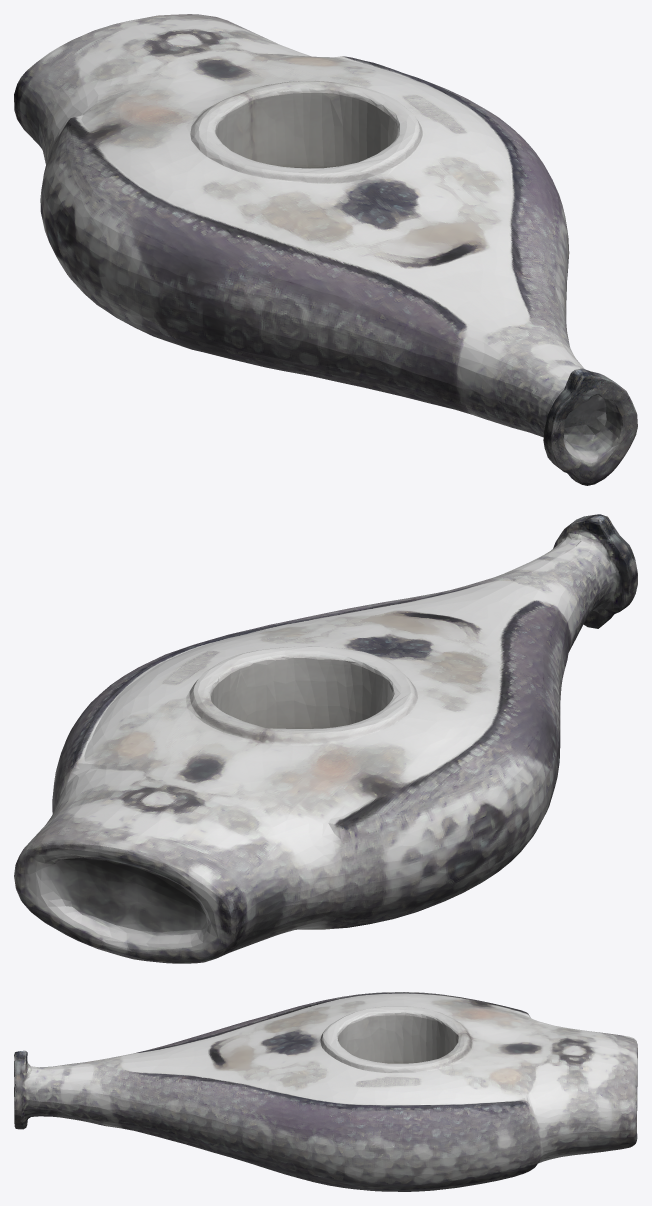
File: z7vcgdkz.glb
The picture shows the model from 3 angles, top to bottom: view 1: azimuth 30°, elevation 25°; view 2: azimuth 150°, elevation 25°; view 3: azimuth 270°, elevation 25°; orthographic projection. The views are drawn at different scales.
Parts seen in each view (by area): view 1: world; view 2: world; view 3: world.
Part boxes in pixels (left/top/right/bottom): world: left=14, top=14, right=637, bottom=485; world: left=14, top=514, right=637, bottom=963; world: left=14, top=992, right=637, bottom=1191.
Bounding box in the file's own units: 0.5258 × 0.2005 × 0.9996.
Materials: 1 (1 with a texture image).
